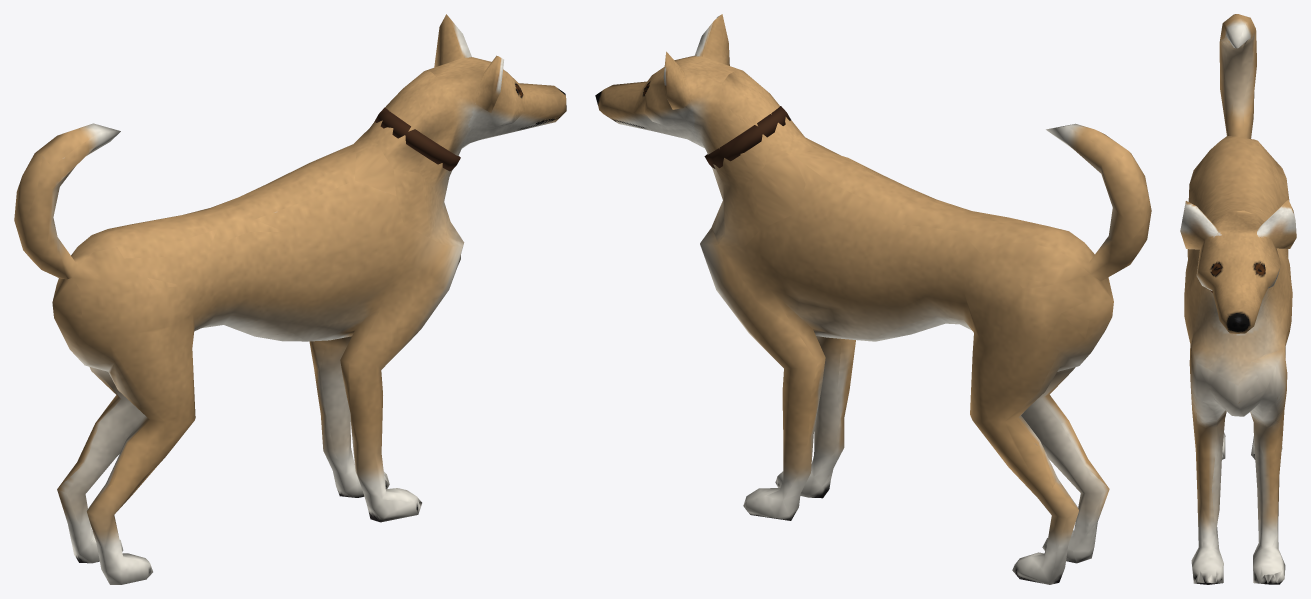
Rendered from dog_alert_lod1.glb.
3 renders of one model, left to right at view 1: azimuth 30°, elevation 25°; view 2: azimuth 150°, elevation 25°; view 3: azimuth 270°, elevation 25°, orthographic. The views are drawn at different scales.
Visible parts, largest first — view 1: dog_alert_lod1_mesh; view 2: dog_alert_lod1_mesh; view 3: dog_alert_lod1_mesh.
Part boxes in pixels (<box>): dog_alert_lod1_mesh: <box>14,14,566,584</box>; dog_alert_lod1_mesh: <box>595,14,1151,584</box>; dog_alert_lod1_mesh: <box>1180,14,1296,584</box>.
Bounding box in the file's own units: 0.8945 × 0.6974 × 0.174.
1 material, 1 textured.
